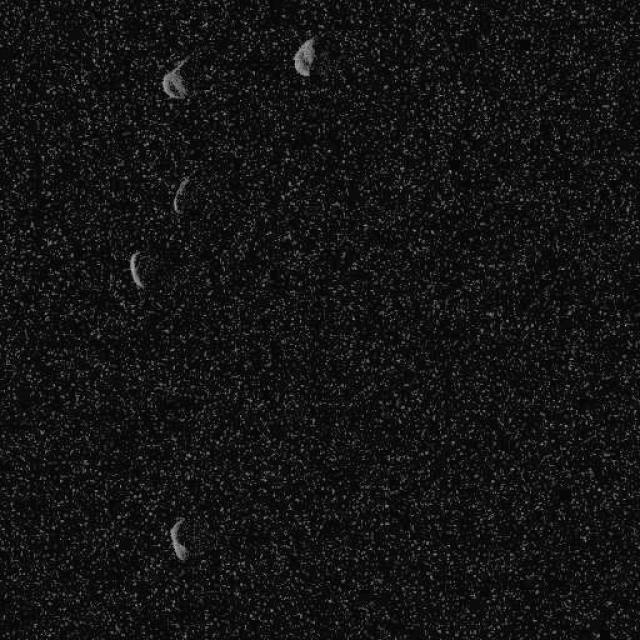D2: (160, 56, 190, 100), (292, 35, 316, 76), (168, 516, 188, 562), (171, 175, 190, 214), (128, 249, 146, 289)
